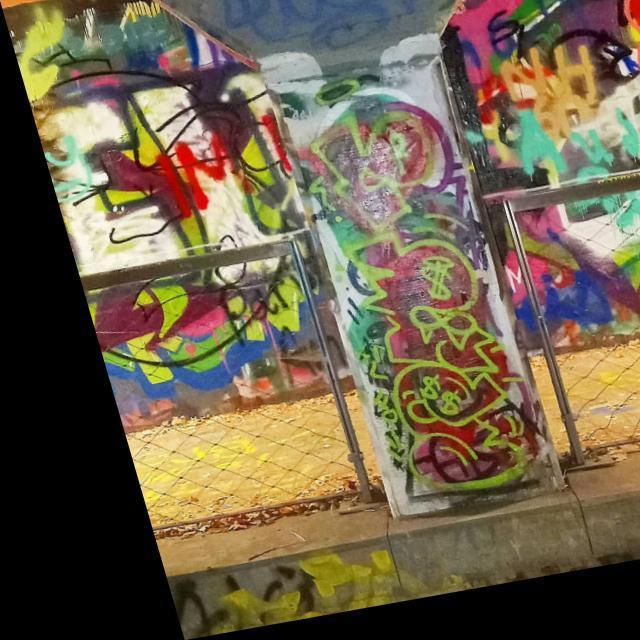-: (263, 72, 529, 524)
